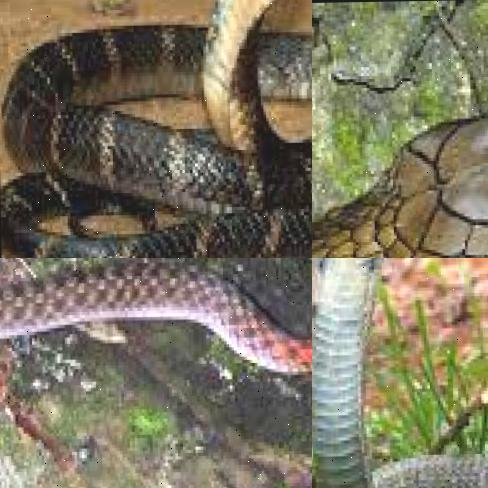snake: (0, 0, 312, 258), (0, 258, 312, 396), (312, 258, 488, 488), (312, 102, 488, 258)
